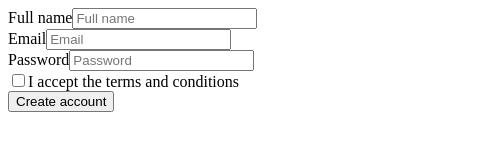
it: SignupForm › shows errors when required fields are missing
The width and height of the screenshot is (480, 160).
Click the button "Create account".
click(61, 102)  # box [8,91,114,112]
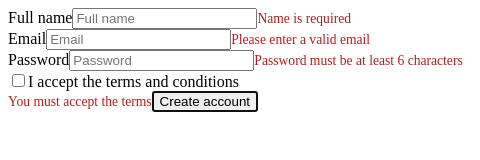
expect the text "Name is required" is shown: met, box [257,11,351,26]
expect the text "Please enter a valid email" is shown: met, box [231,32,370,47]
expect the text "You must accept the terms" is shown: met, box [8,94,152,109]
